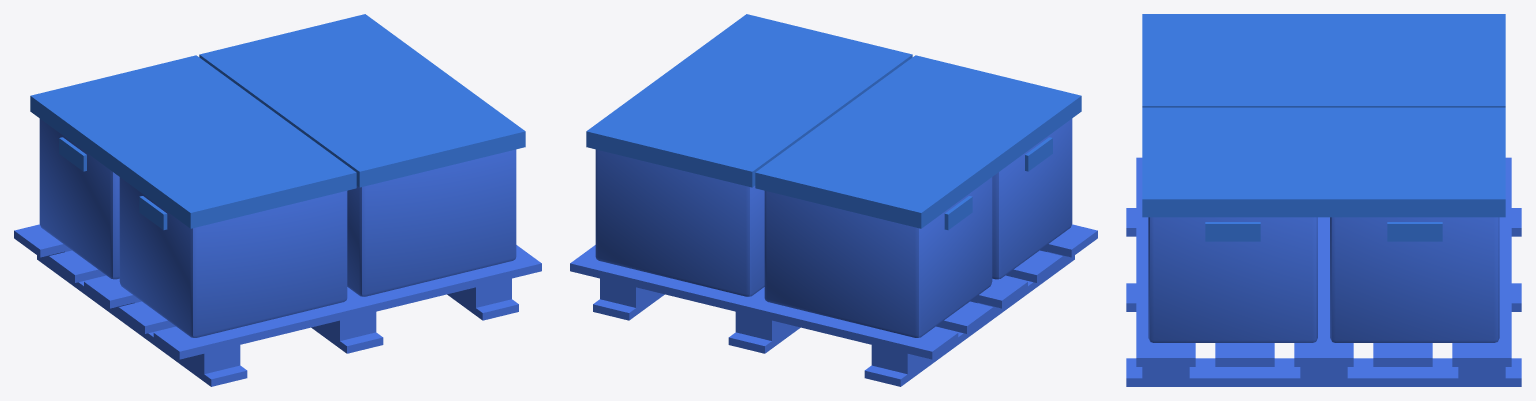
File: pallet_blue.glb
3 views of the same model, side by side, from view 1: azimuth 30°, elevation 25°; view 2: azimuth 150°, elevation 25°; view 3: azimuth 270°, elevation 25° (orthographic). The views are drawn at different scales.
Visible parts, largest first — view 1: Tote_1, Tote_2, Tote_1_Rim, Tote_2_Rim, Tote_3_Rim, Tote_4_Rim, Tote_3, BluePallet_Deck_-0.4, BluePallet_Runner_-0.45, BluePallet_Deck_0.0, BluePallet_Deck_0.4, BluePallet_Deck_-0.2 (+8 smaller); view 2: Tote_3, Tote_4, Tote_3_Rim, Tote_4_Rim, Tote_1_Rim, Tote_2_Rim, Tote_1, BluePallet_Deck_0.4, BluePallet_Runner_-0.45, BluePallet_Deck_0.0, BluePallet_Deck_-0.4, BluePallet_Deck_0.2 (+8 smaller); view 3: Tote_2, Tote_4, Tote_2_Rim, Tote_4_Rim, Tote_1_Rim, Tote_3_Rim, BluePallet_Runner_0.45, BluePallet_Deck_0.4, BluePallet_Deck_-0.4, BluePallet_Deck_0.0, BluePallet_Deck_0.2, BluePallet_Deck_-0.2 (+7 smaller).
Part boxes in pixels (x1,y1,x2,y2): Tote_1: (119,177,347,337); Tote_2: (347,149,516,296); Tote_1_Rim: (110,114,356,228); Tote_2_Rim: (279,72,525,187); Tote_3_Rim: (30,55,275,169); Tote_4_Rim: (199,14,444,115); Tote_3: (39,118,119,279); BluePallet_Deck_-0.4: (153,245,541,359); BluePallet_Runner_-0.45: (37,255,247,386); BluePallet_Deck_0.0: (84,276,140,308); BluePallet_Deck_0.4: (14,224,71,257); BluePallet_Deck_-0.2: (118,301,175,333); Tote_3: (764,177,992,337); Tote_4: (595,149,764,296); Tote_3_Rim: (755,114,1001,228); Tote_4_Rim: (586,72,832,187); Tote_1_Rim: (836,55,1081,169); Tote_2_Rim: (667,14,912,115); Tote_1: (992,118,1072,279); BluePallet_Deck_0.4: (570,245,958,359); BluePallet_Runner_-0.45: (864,255,1074,386); BluePallet_Deck_0.0: (971,276,1027,308); BluePallet_Deck_-0.4: (1040,224,1097,257); BluePallet_Deck_0.2: (936,301,993,333); Tote_2: (1148,217,1317,342); Tote_4: (1330,217,1499,342); Tote_2_Rim: (1142,107,1323,217); Tote_4_Rim: (1324,107,1505,217); Tote_1_Rim: (1142,14,1323,107); Tote_3_Rim: (1324,14,1505,107); BluePallet_Runner_0.45: (1126,358,1521,386); BluePallet_Deck_0.4: (1452,157,1511,366); BluePallet_Deck_-0.4: (1136,157,1195,366); BluePallet_Deck_0.0: (1294,217,1353,366); BluePallet_Deck_0.2: (1373,343,1432,366); BluePallet_Deck_-0.2: (1215,343,1274,366).
Size of the model in its own units: 1.2 by 0.545 by 1.
